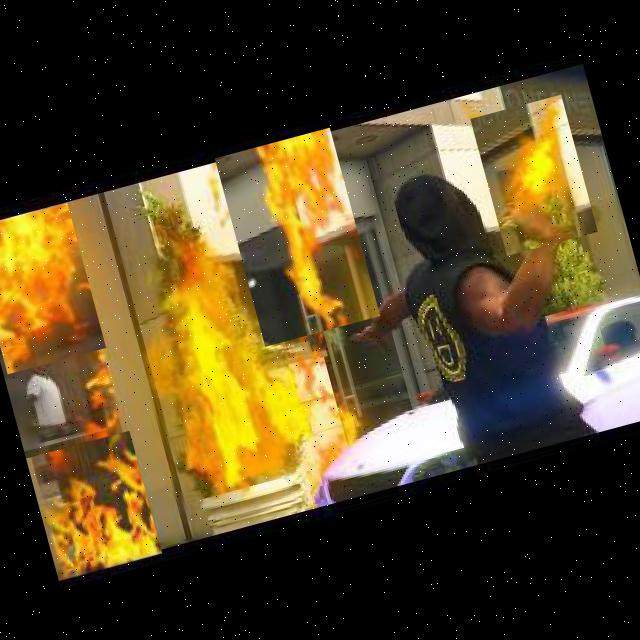fire: (138, 221, 316, 498), (214, 127, 380, 346), (26, 431, 162, 584), (470, 94, 598, 255), (0, 202, 105, 373)
